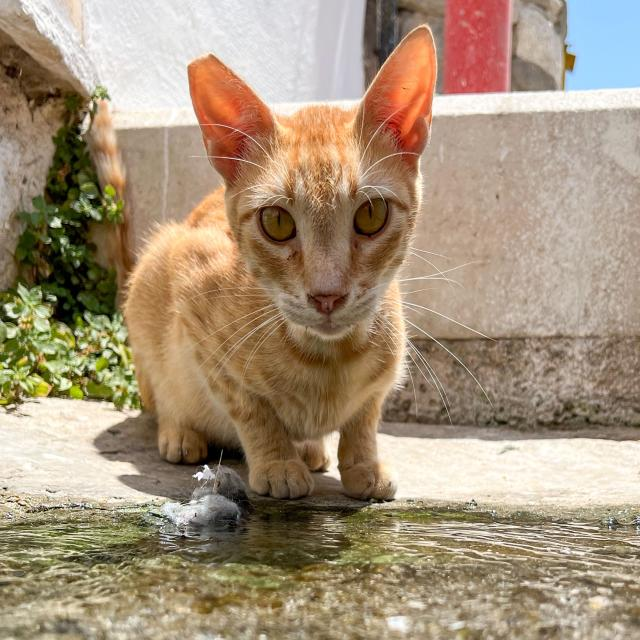cat: (109, 26, 436, 500), (89, 101, 126, 200)
